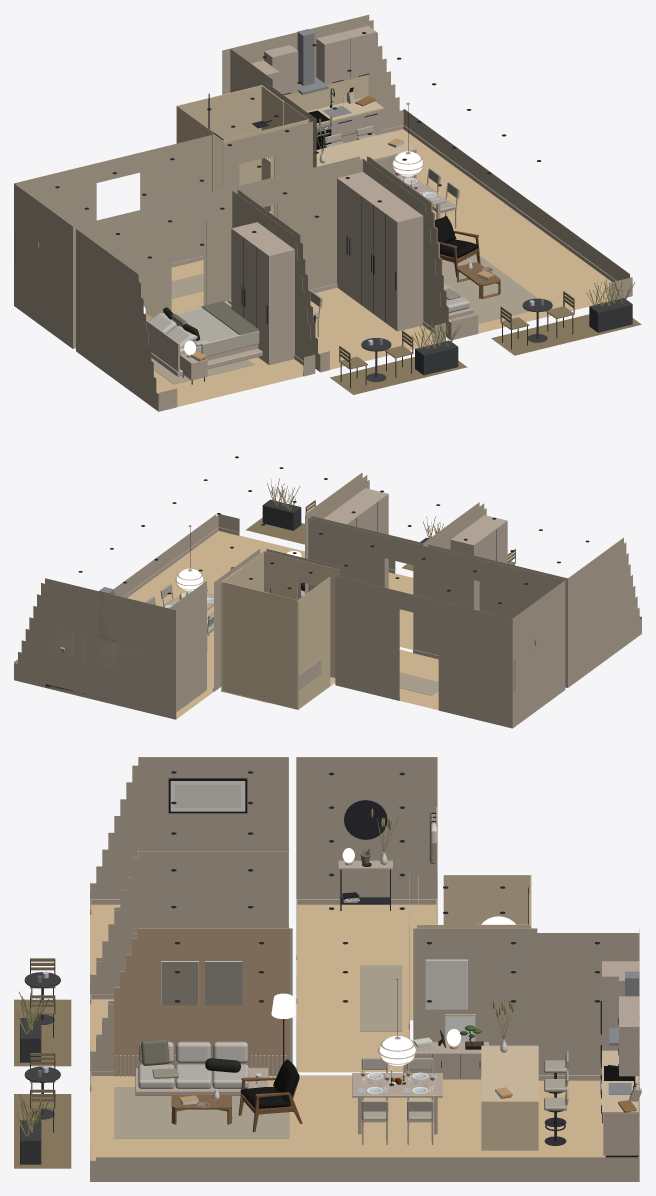
File: unit-2.C-natura.glb
The picture shows the model from 3 angles, top to bottom: view 1: azimuth 30°, elevation 25°; view 2: azimuth 150°, elevation 25°; view 3: azimuth 270°, elevation 25°; orthographic projection. The views are drawn at different scales.
Parts seen in each view (by area): view 1: int-wall, int-floor, int-joineryTall, int-joinery, int-showerWall, int-rug, int-outdoor, int-deck, int-wood, int-skirting, int-worktop, int-bathWall (+14 smaller); view 2: int-wall, int-bathWall, int-joineryTall, int-floor, int-skirting, int-joinery, int-hallFloor, int-outdoor, int-splash, int-deck, int-rug, int-inst-grass|grassBlade (+1 smaller); view 3: int-wall, int-floor, int-feature, int-hallFloor, int-rug, int-worktop, int-deck, int-wood, int-bathWall, int-skirting, int-sofa, int-joinery (+20 smaller).
Part boxes in pixels (<box>): int-wall: <box>14,14,632,407</box>; int-floor: <box>154,129,611,406</box>; int-joineryTall: <box>231,60,423,365</box>; int-joinery: <box>264,26,383,143</box>; int-showerWall: <box>208,85,283,211</box>; int-rug: <box>151,254,537,384</box>; int-outdoor: <box>339,294,632,388</box>; int-deck: <box>330,314,641,394</box>; int-wood: <box>146,92,473,380</box>; int-skirting: <box>14,125,632,411</box>; int-worktop: <box>264,98,416,178</box>; int-bathWall: <box>176,85,309,215</box>; int-wall: <box>14,474,641,724</box>; int-bathWall: <box>221,551,340,709</box>; int-joineryTall: <box>139,488,507,715</box>; int-floor: <box>127,531,413,718</box>; int-skirting: <box>14,527,641,728</box>; int-joinery: <box>45,588,138,703</box>; int-hallFloor: <box>399,649,438,710</box>; int-outdoor: <box>262,499,515,565</box>; int-splash: <box>49,628,138,668</box>; int-deck: <box>245,517,413,570</box>; int-rug: <box>399,672,438,695</box>; int-inst-grass|grassBlade: <box>267,478,444,538</box>; int-wall: <box>90,757,639,1176</box>; int-floor: <box>90,904,605,1160</box>; int-feature: <box>114,928,289,1075</box>; int-hallFloor: <box>296,904,436,1072</box>; int-rug: <box>114,965,402,1138</box>; int-worktop: <box>444,1014,639,1150</box>; int-deck: <box>14,999,71,1168</box>; int-wood: <box>115,807,641,1134</box>; int-bathWall: <box>417,874,531,928</box>; int-skirting: <box>90,899,639,1181</box>; int-sofa: <box>138,1041,248,1088</box>; int-joinery: <box>603,965,639,1155</box>.
Bounding box in the file's own units: 10.9 × 2.8 × 10.39.
